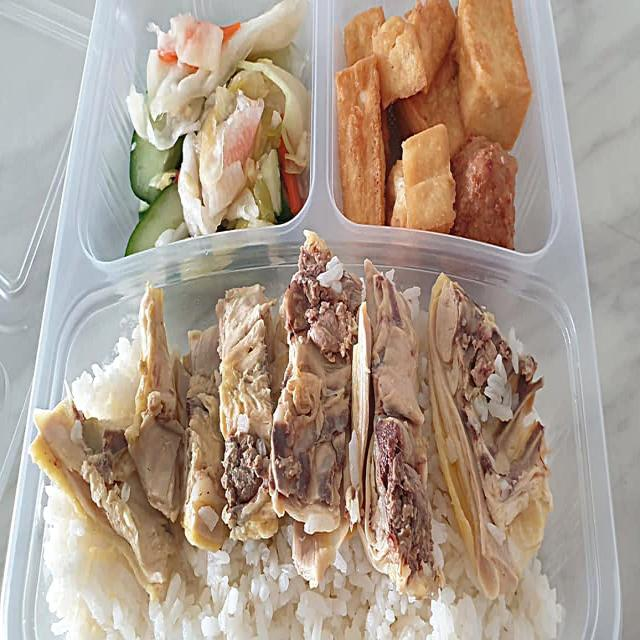Chicken: (31, 232, 444, 598), (425, 274, 551, 598)
Green veg: (125, 132, 183, 255)
Non green veg: (127, 0, 310, 235)
Rice: (40, 488, 562, 639), (73, 325, 140, 428)
Tofu: (336, 0, 531, 248)
